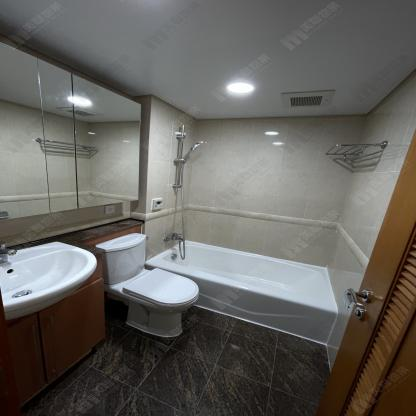Bathtub: (145, 240, 339, 346)
Toilet: (95, 232, 200, 337)
Toilet Sink: (0, 241, 97, 319)
